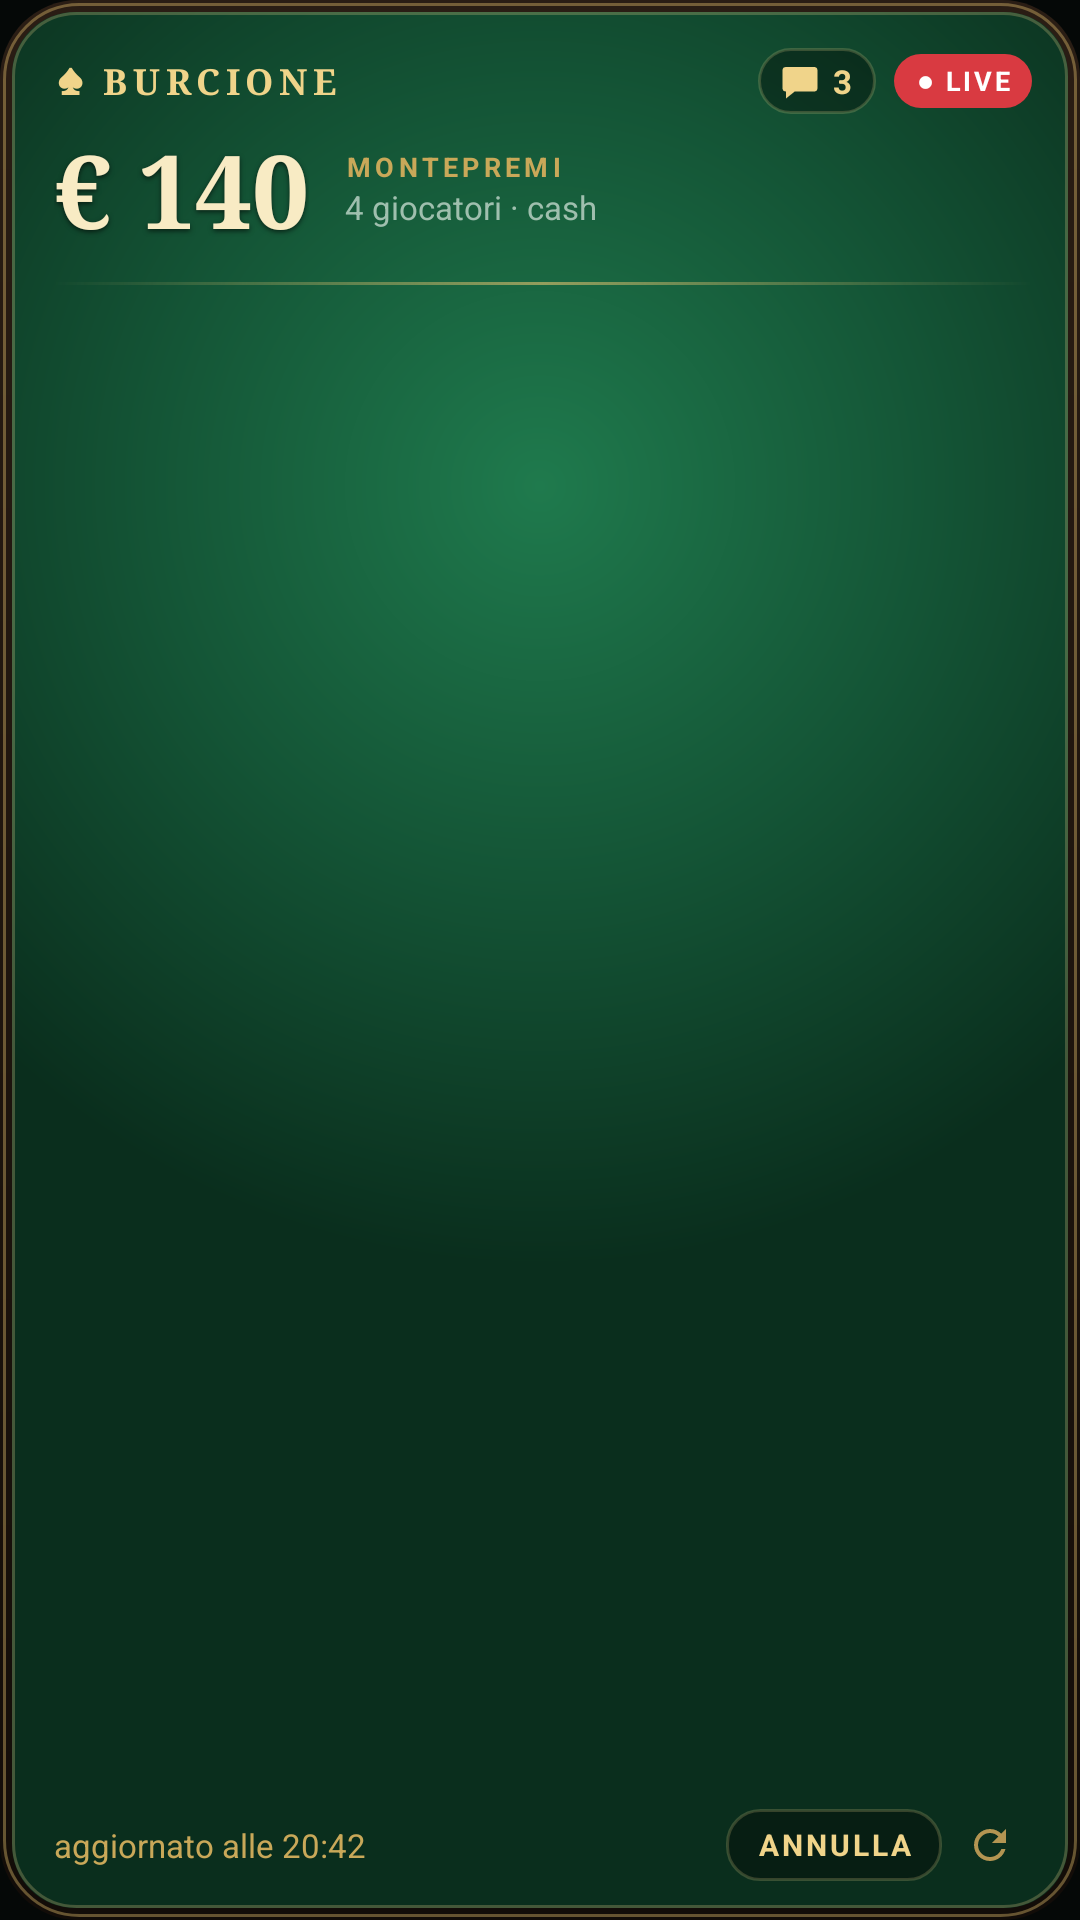

Point at icon controls on the screen. Image size 1080×1920, points as point (x, y).
refresh: point (990, 1845)
